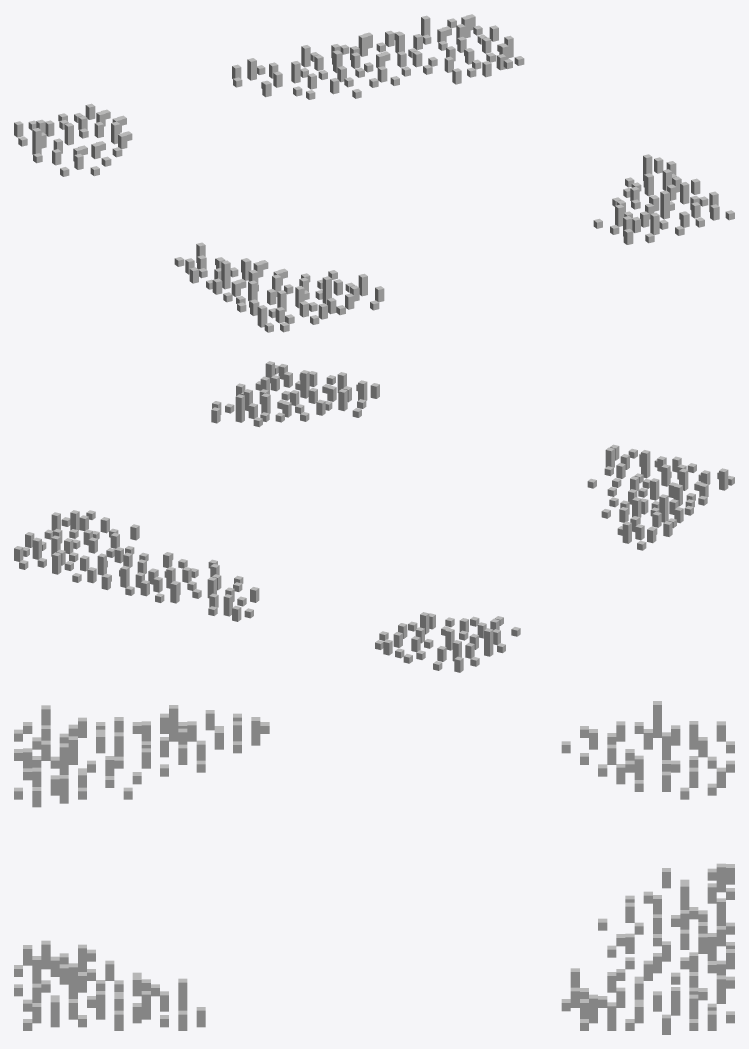
File: river_snow_3_overtile.obj
The picture shows the model from 3 angles, top to bottom: view 1: azimuth 30°, elevation 25°; view 2: azimuth 150°, elevation 25°; view 3: azimuth 270°, elevation 25°; orthographic projection. The views are drawn at different scales.
Size of the model in its own units: 8 by 0.4 by 7.9.
Materials: 1 (1 with a texture image).
